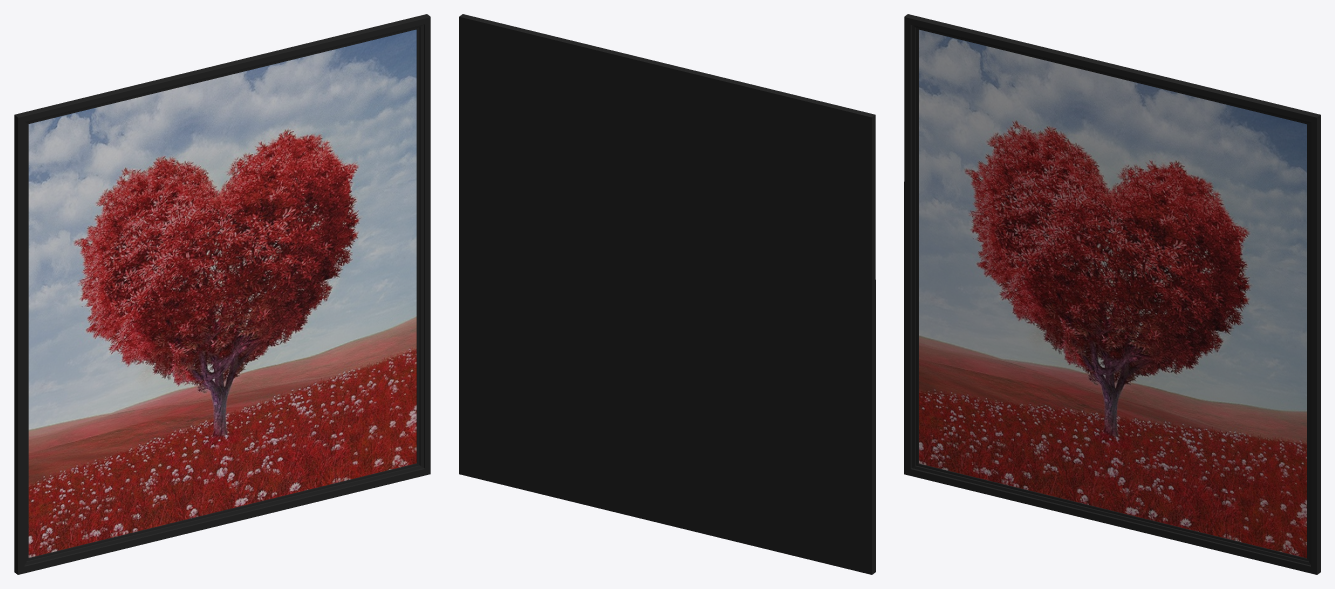
File: Picture 1.FBX
3 views of the same model, side by side, from view 1: azimuth 30°, elevation 25°; view 2: azimuth 150°, elevation 25°; view 3: azimuth 330°, elevation 25° (orthographic).
Visible parts, largest first — view 1: picture 1; view 2: picture 1; view 3: picture 1.
Part boxes in pixels (left/top/right/bottom): picture 1: left=14, top=14, right=430, bottom=574; picture 1: left=459, top=14, right=875, bottom=574; picture 1: left=904, top=14, right=1320, bottom=574.
Bounding box in the file's own units: 89.74 × 95 × 1.46.
Materials: 1 (1 with a texture image).
